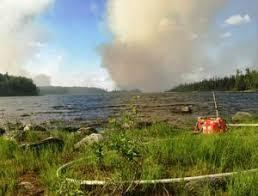yanwu: (98, 0, 224, 93), (1, 0, 54, 90)
